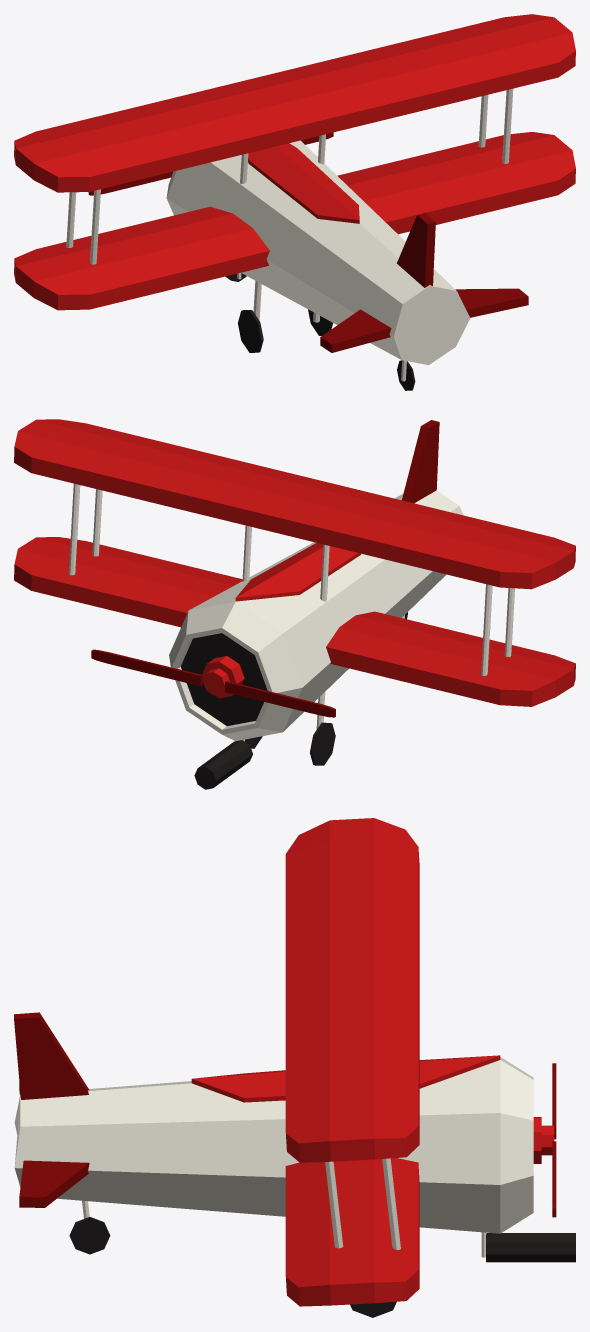
3 renders of one model, top to bottom at view 1: azimuth 30°, elevation 25°; view 2: azimuth 150°, elevation 25°; view 3: azimuth 270°, elevation 25°, orthographic. The views are drawn at different scales.
Parts seen in each view (by area): view 1: plane_body.019, propellor.001; view 2: plane_body.019, propellor.001; view 3: plane_body.019, propellor.001.
Part boxes in pixels (<box>): plane_body.019: <box>14,14,575,390</box>; propellor.001: <box>88,132,333,195</box>; plane_body.019: <box>14,419,575,789</box>; propellor.001: <box>91,649,335,717</box>; plane_body.019: <box>14,818,575,1317</box>; propellor.001: <box>552,1063,556,1217</box>.
Bounding box in the file's own units: 403 × 186 × 298.
